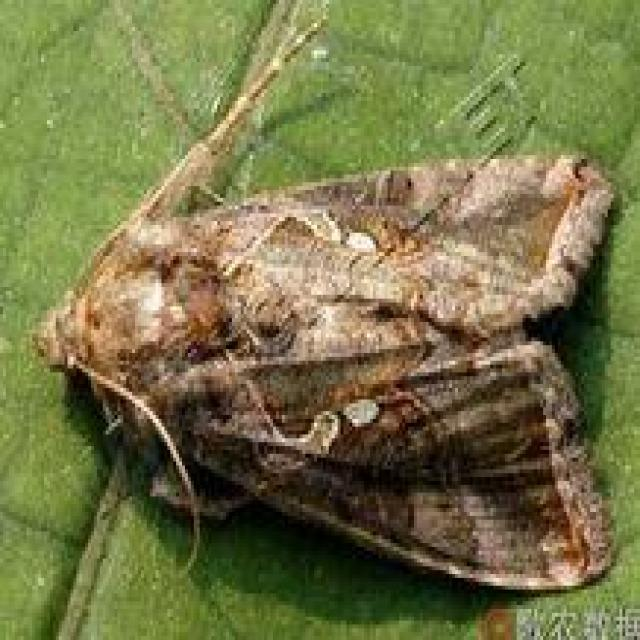BeetArmyWorm-Adult-: (36, 141, 623, 596)
